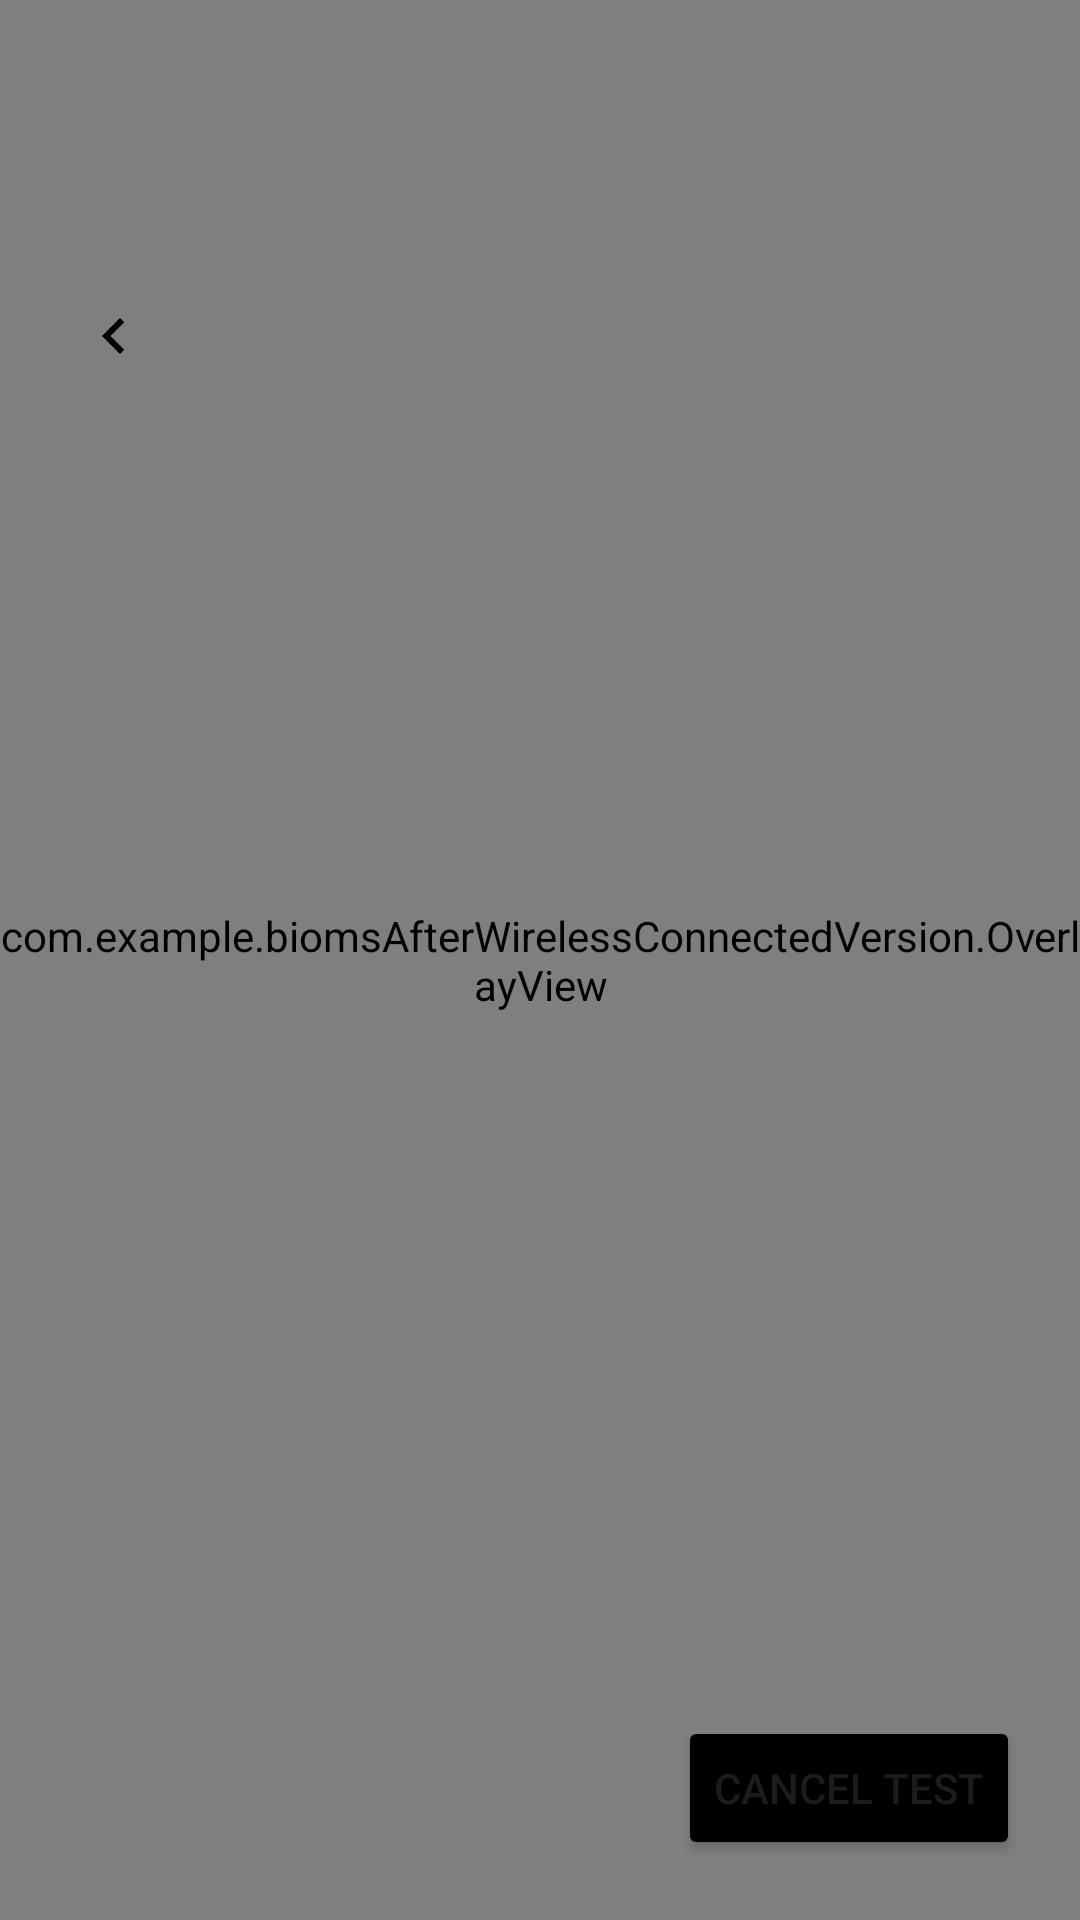

Icon bounding boxes for this 1080w x 1920h phone screenshot, format detection(x1, y1, x2, y2):
chevron left: detection(102, 318, 124, 354)
